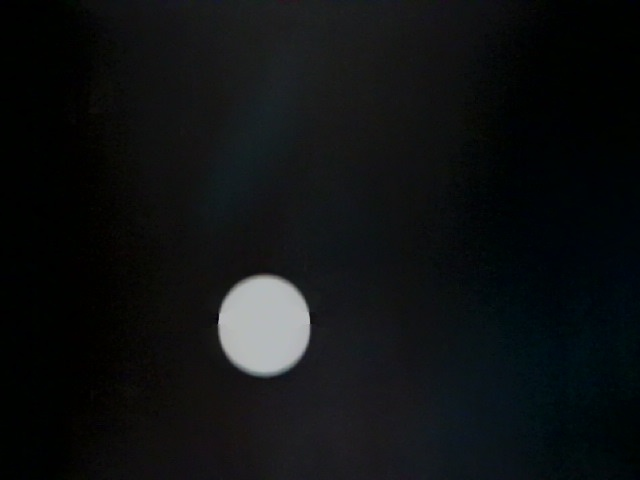CYLJ: (244, 224, 361, 323)
